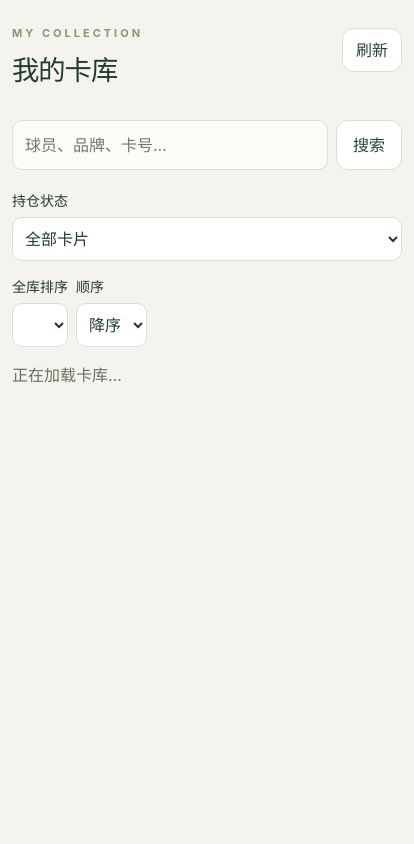
Test: ignores a slow prior search response
This screenshot has width=414, height=844.
(page scrolled)
Type "new" into the field named "搜索卡片" at coordinates (170, 145), box [12, 120, 328, 170]
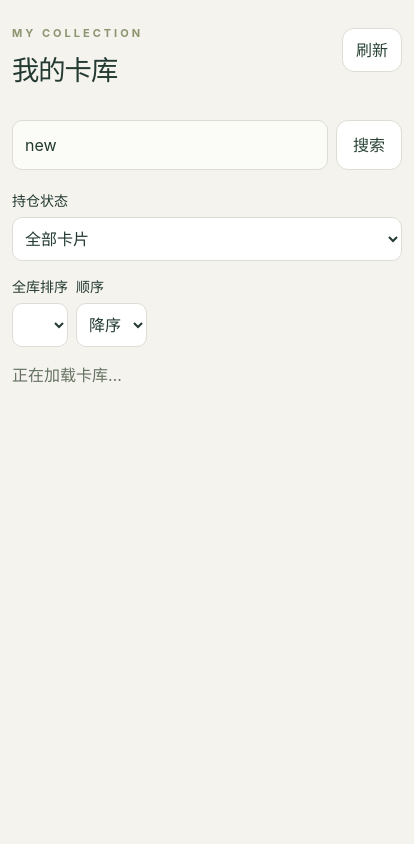
Click the button "搜索" at coordinates (369, 145), box [336, 120, 402, 170]
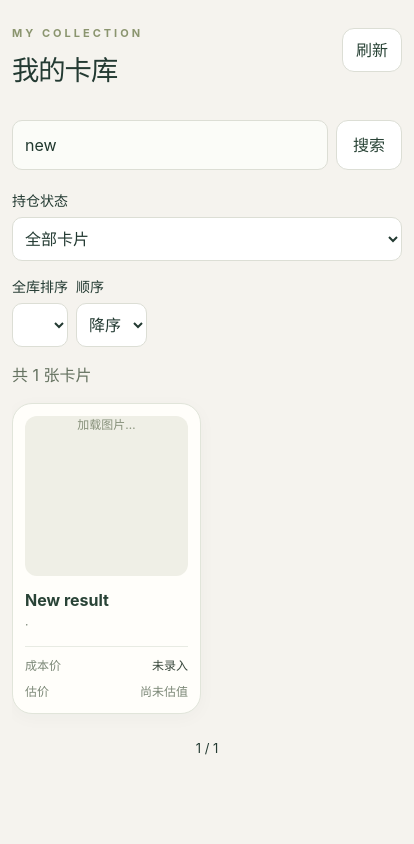
Expected: the text "New result" is shown, [25, 588, 109, 612]
